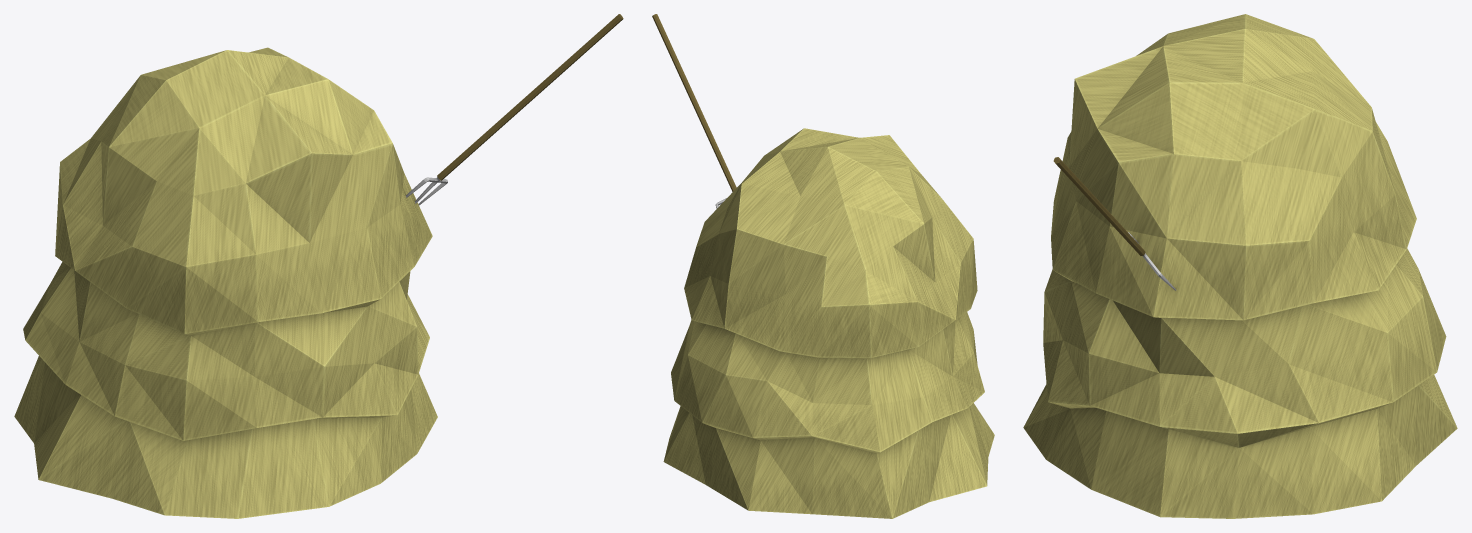
File: Haystack.glb
3 views of the same model, side by side, from view 1: azimuth 30°, elevation 25°; view 2: azimuth 150°, elevation 25°; view 3: azimuth 270°, elevation 25° (orthographic). The views are drawn at different scales.
Visible parts, largest first — view 1: Haystack_mesh; view 2: Haystack_mesh; view 3: Haystack_mesh.
Part boxes in pixels (box(x1,y1,x2,y2)): Haystack_mesh: box(14, 14, 623, 518); Haystack_mesh: box(652, 14, 994, 518); Haystack_mesh: box(1023, 14, 1457, 518).
Bounding box in the file's own units: 11.59 × 8.98 × 8.25.
Materials: 1 (1 with a texture image).
